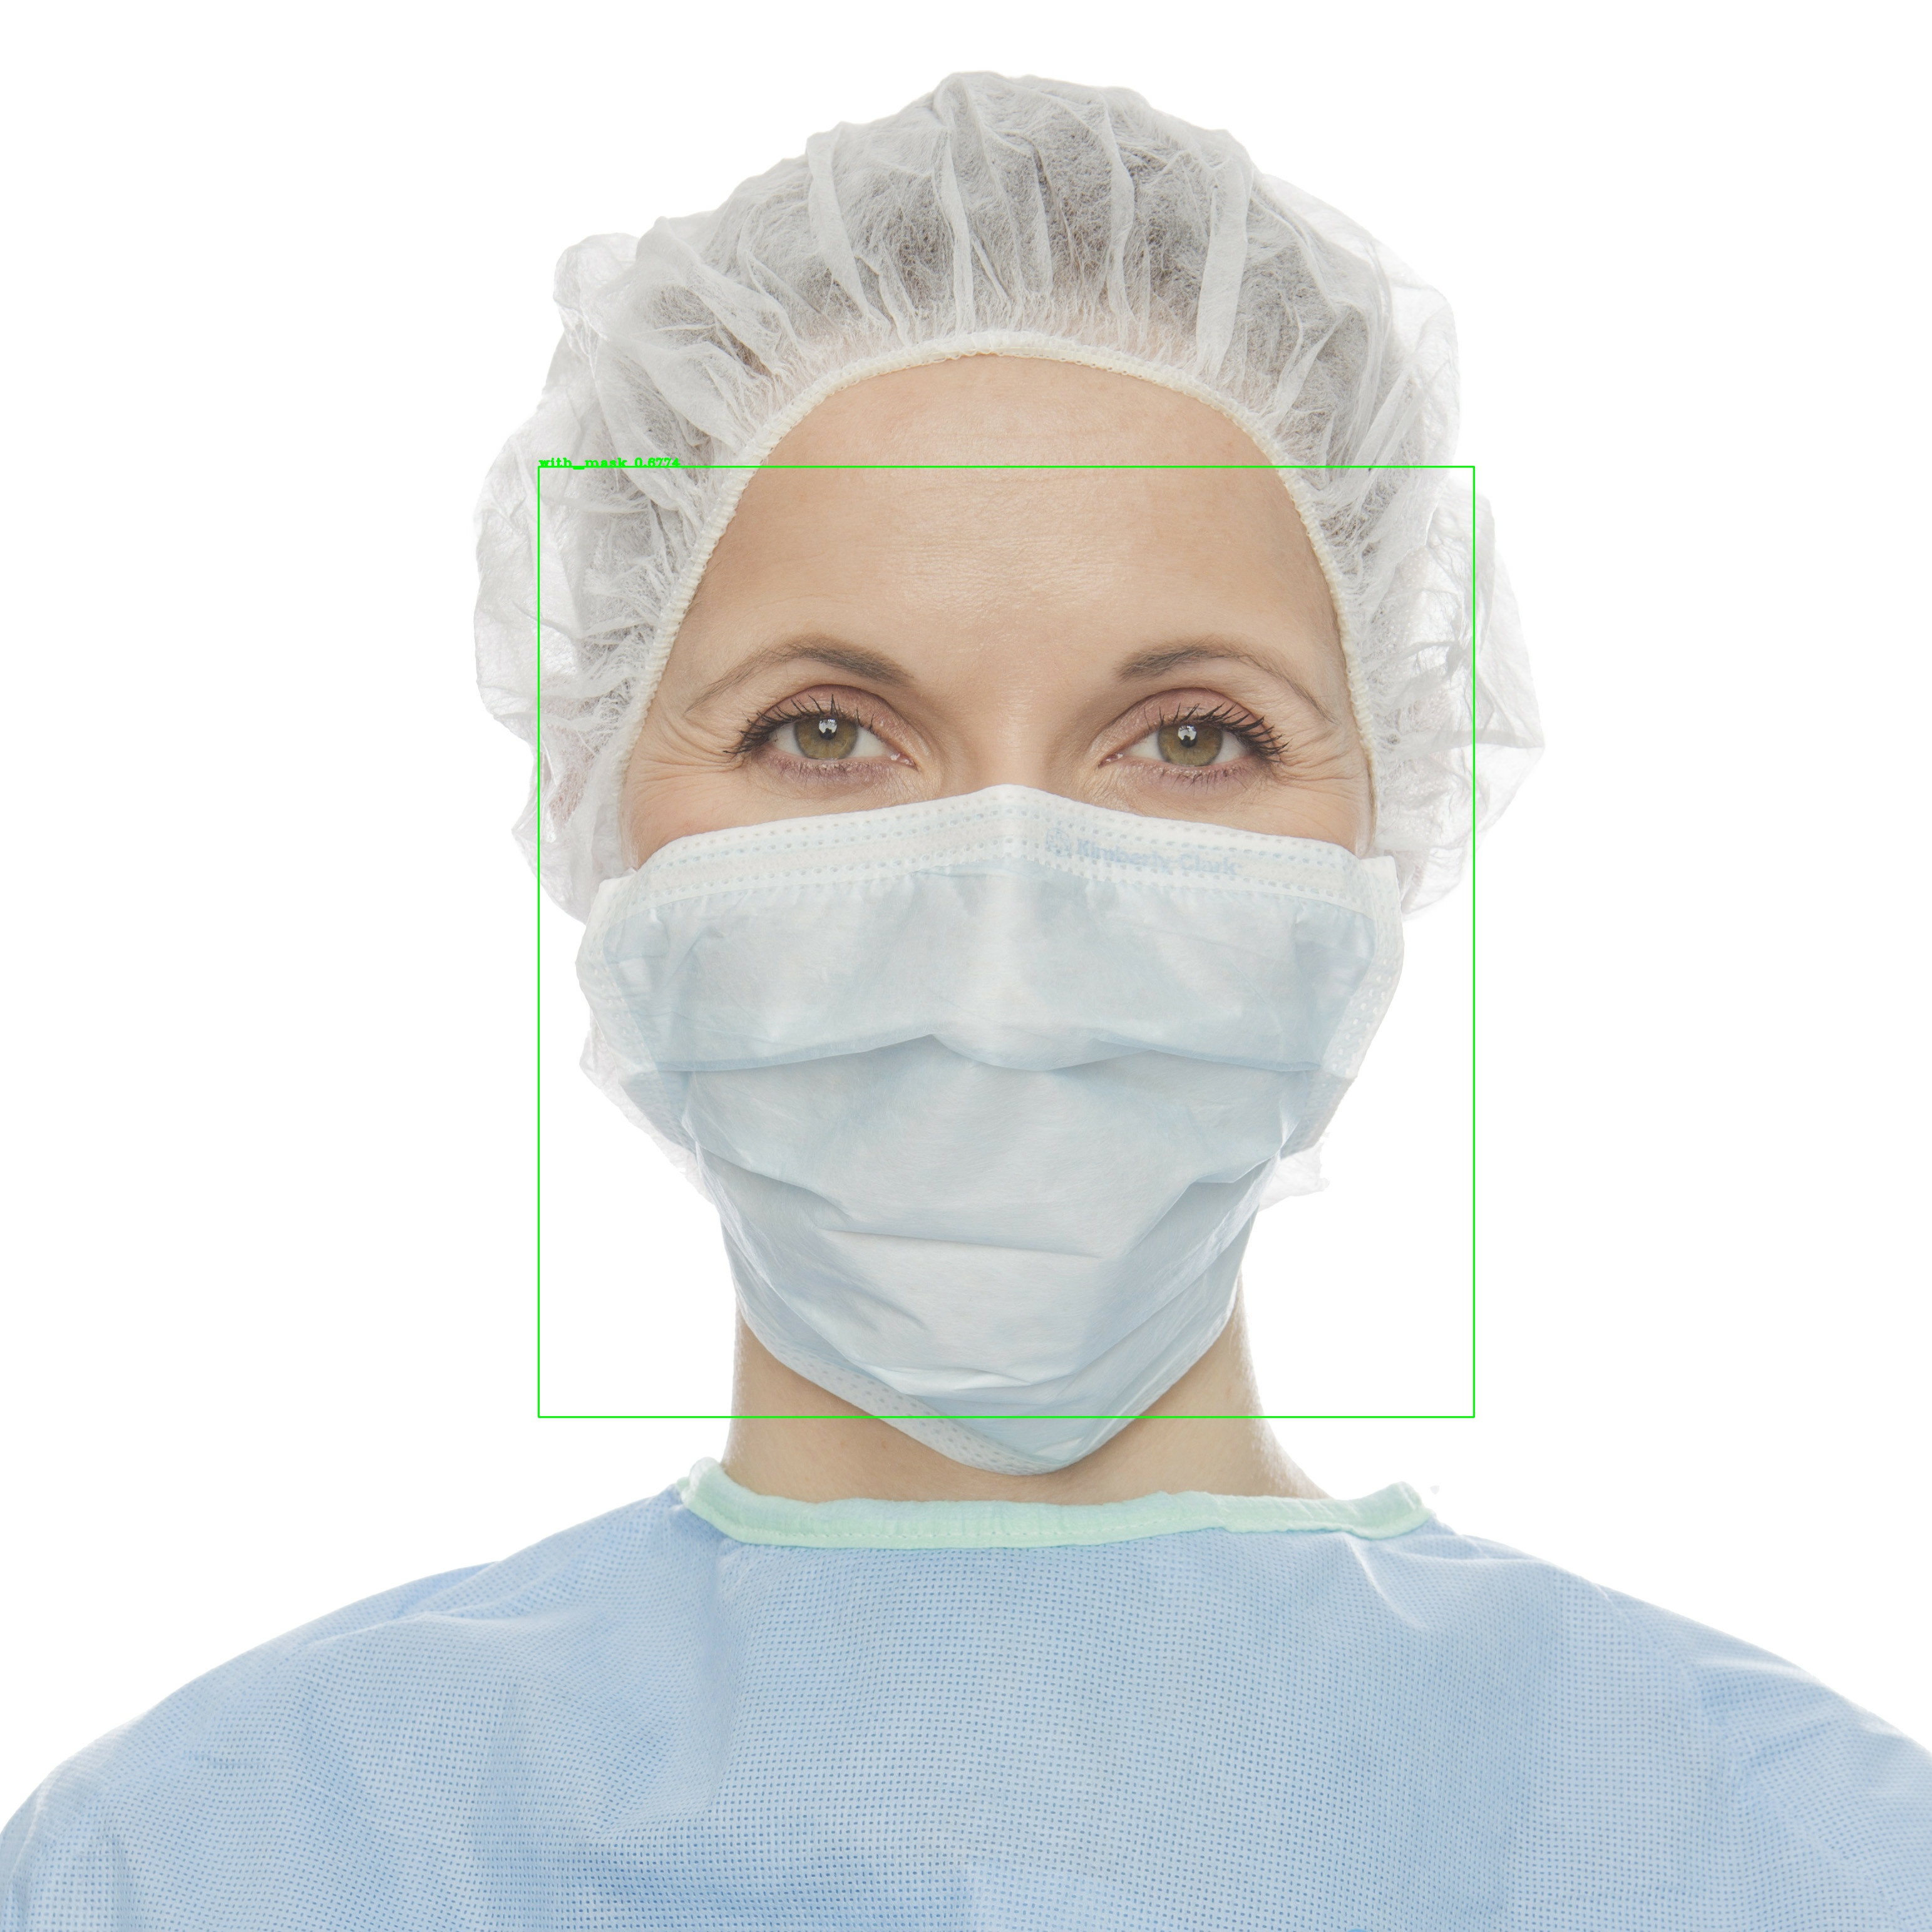with_mask: (515, 294, 1529, 1573)
